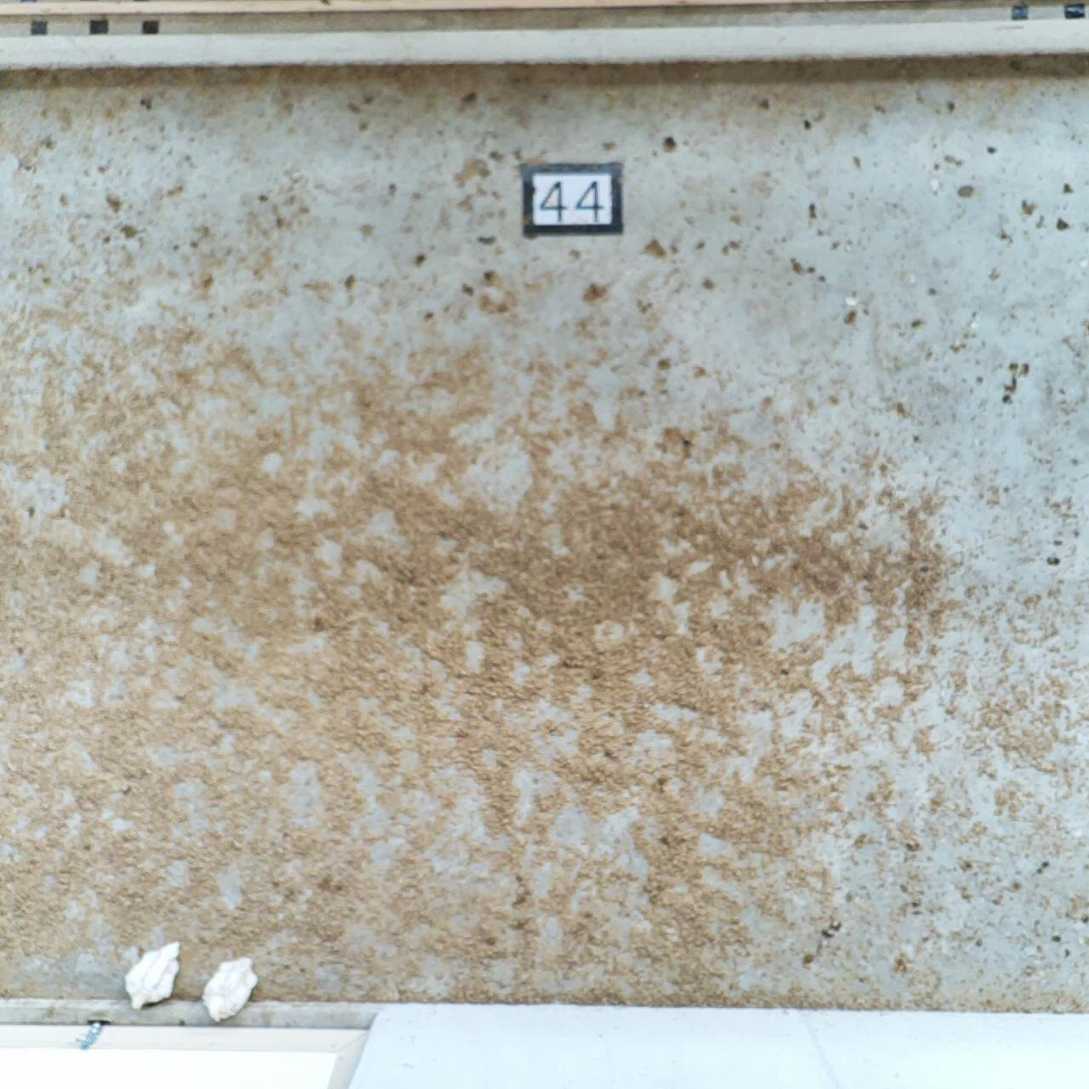chicken: (195, 947, 267, 1028), (118, 938, 187, 1020)
